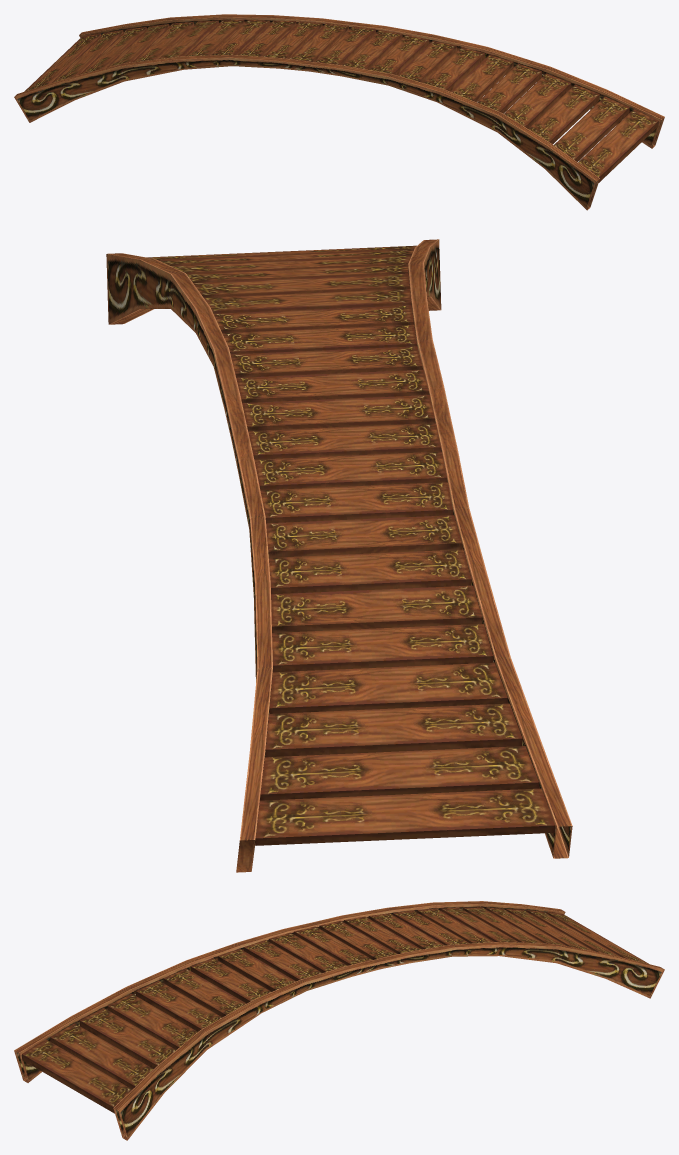
File: EKH_THRONE_PS_TH_SIDEBRIDGE76__GX.fbx
The picture shows the model from 3 angles, top to bottom: view 1: azimuth 30°, elevation 25°; view 2: azimuth 150°, elevation 25°; view 3: azimuth 270°, elevation 25°; orthographic projection. The views are drawn at different scales.
Visible parts, largest first — view 1: EKH_THRONE_PS_TH_SIDEBRIDGE76__GX; view 2: EKH_THRONE_PS_TH_SIDEBRIDGE76__GX; view 3: EKH_THRONE_PS_TH_SIDEBRIDGE76__GX.
Boxes of the visible parts, x1,y1,x2,y2 form: EKH_THRONE_PS_TH_SIDEBRIDGE76__GX: (14,14,664,210); EKH_THRONE_PS_TH_SIDEBRIDGE76__GX: (106,239,572,872); EKH_THRONE_PS_TH_SIDEBRIDGE76__GX: (14,901,664,1140).
Bounding box in the file's own units: 57222 × 12438 × 68901.
2 materials, 2 textured.
